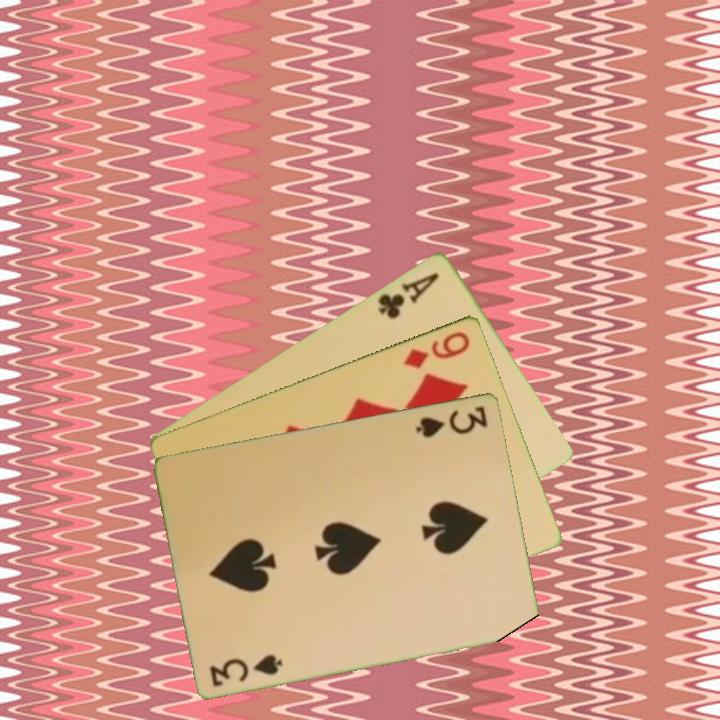3s: (206, 650, 286, 689), (412, 402, 491, 440)
9d: (400, 327, 473, 372)
Ac: (374, 268, 442, 322)
